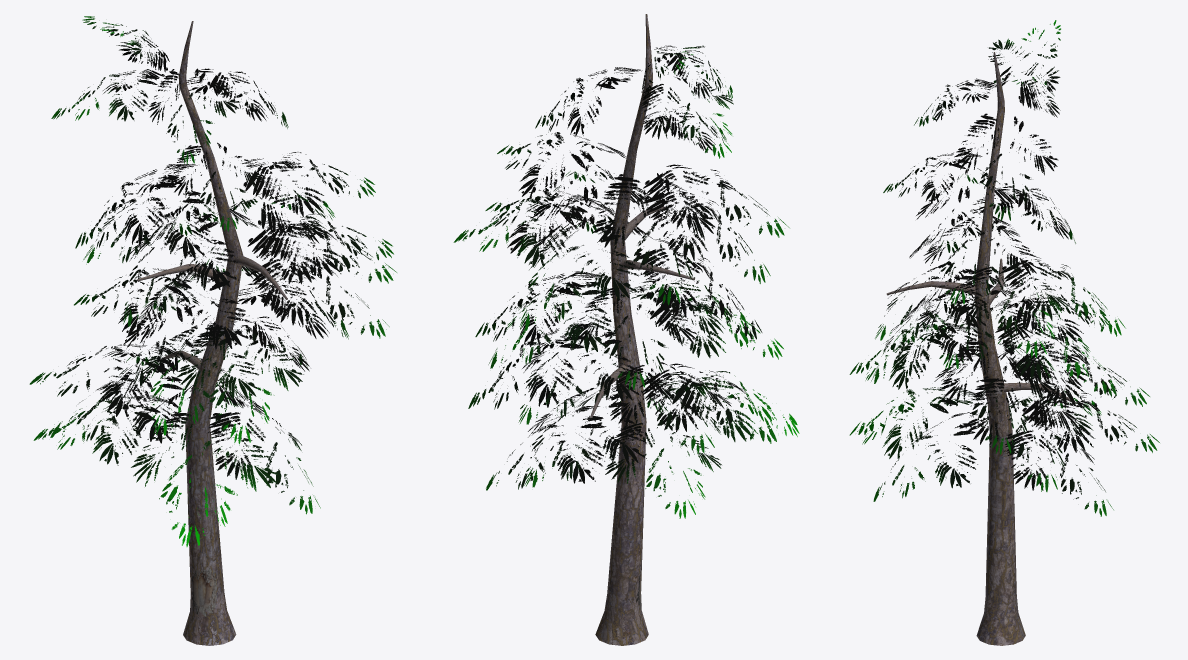
File: TO_WoundedTree.fbx
3 views of the same model, side by side, from view 1: azimuth 30°, elevation 25°; view 2: azimuth 150°, elevation 25°; view 3: azimuth 270°, elevation 25° (orthographic). The views are drawn at different scales.
Parts seen in each view (by area): view 1: tree.6C_withWound; view 2: tree.6C_withWound; view 3: tree.6C_withWound.
Part boxes in pixels (bbox=[...]): tree.6C_withWound: bbox=[29, 16, 396, 645]; tree.6C_withWound: bbox=[453, 14, 799, 645]; tree.6C_withWound: bbox=[849, 20, 1159, 645].
Bounding box in the file's own units: 311 × 535 × 282.
